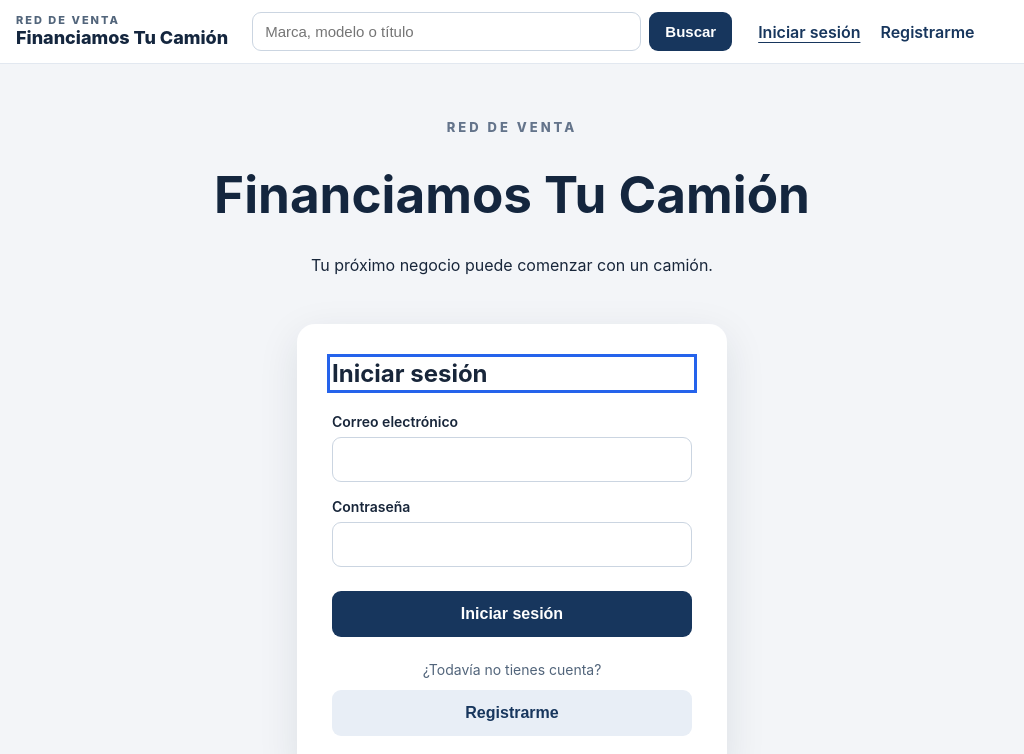
it: Login › CA-059-17 un 401 muestra "Correo o contraseña incorrectos.", conserva el correo y vacía la contraseña
This screenshot has width=1024, height=754.
Step 1. Type "comprador.ficticio@ejemplo.test" into the field labelled "Correo electrónico" → (512, 460), box [332,437,692,482]
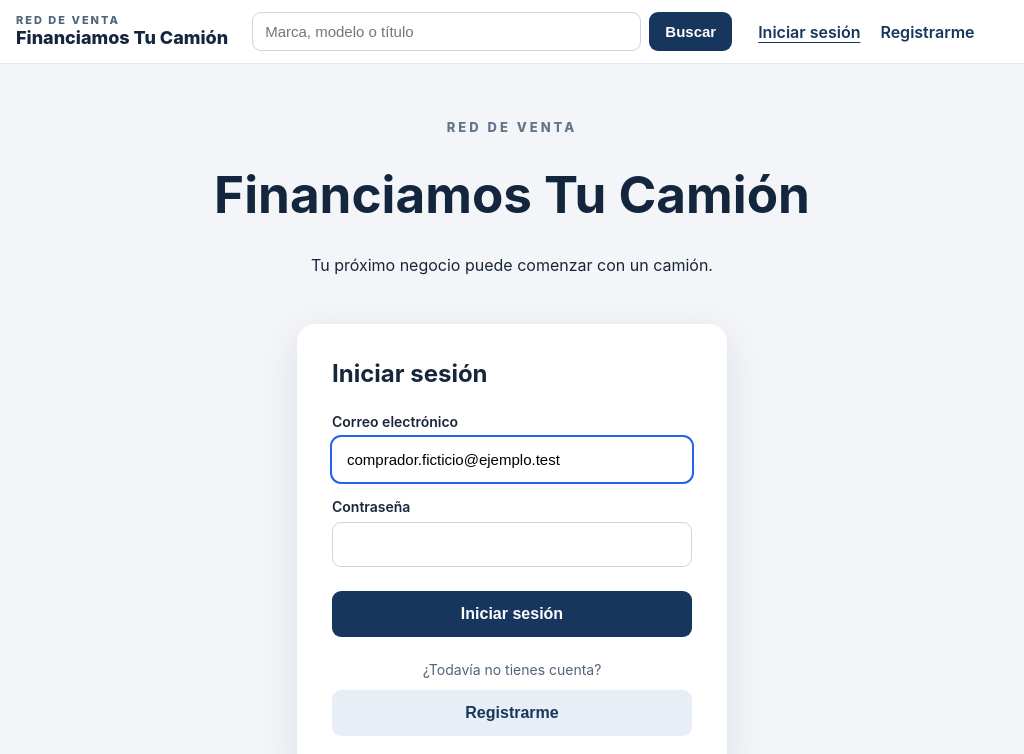
Step 2. Type "Camion2026" into the password field labelled "Contraseña" → (512, 545), box [332,522,692,567]
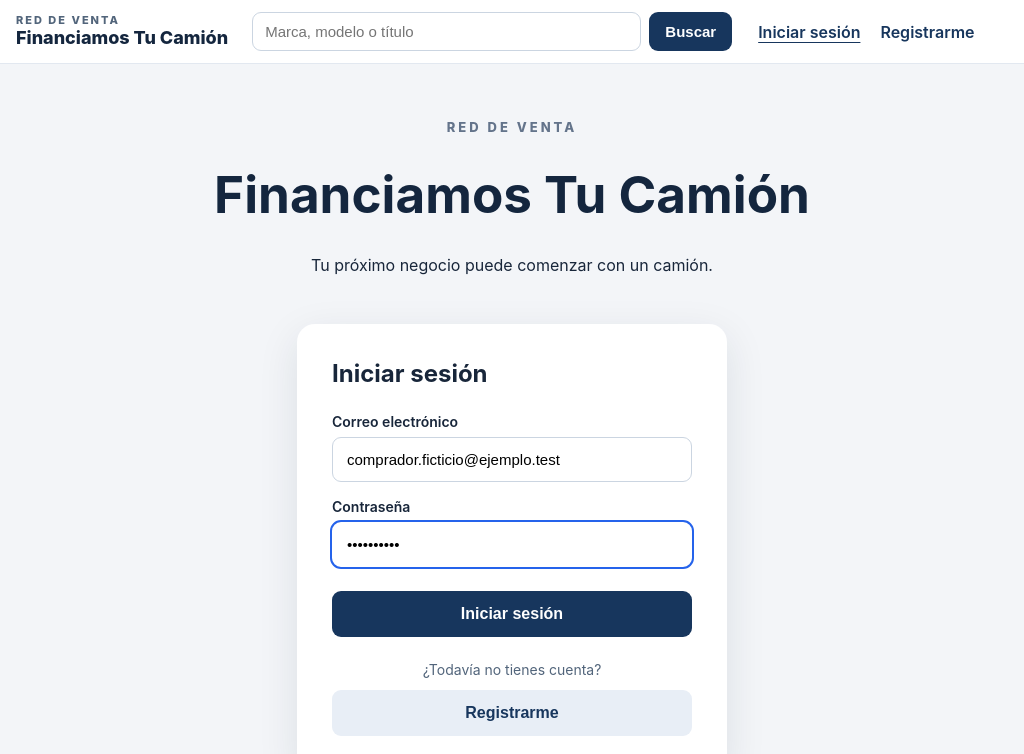
Step 3. Click the button "Iniciar sesión" → (512, 614), box [332,591,692,637]
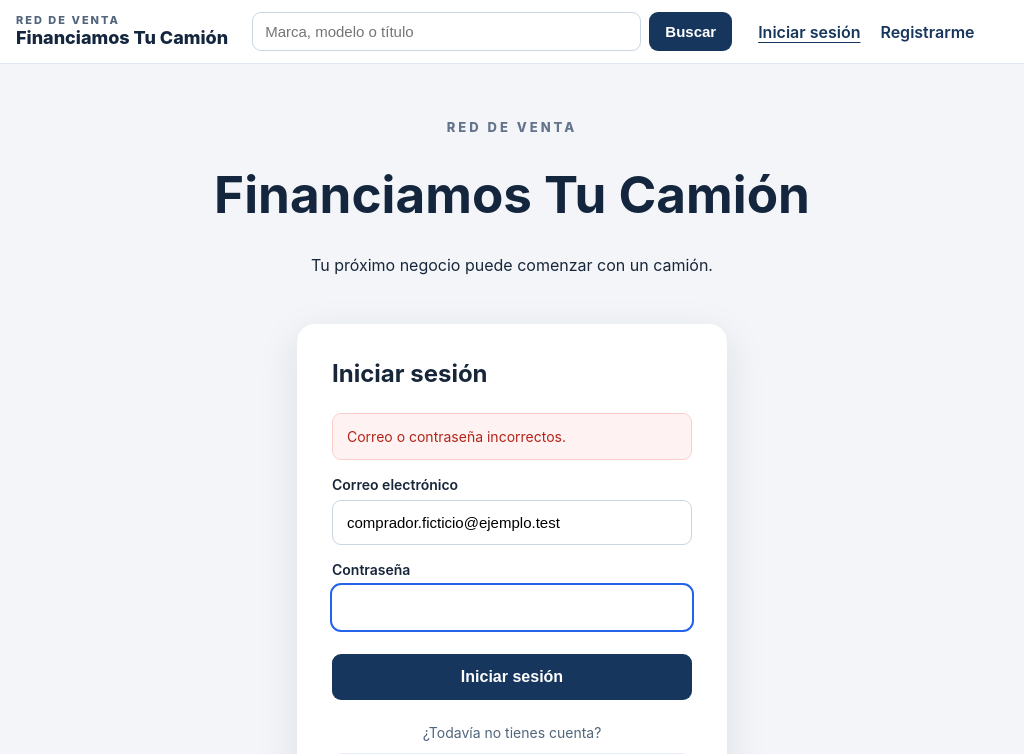
expect the message reads "Correo o contraseña incorrectos.": met, box [347,428,566,445]
expect the password field labelled "Contraseña" is empty: met, box [332,585,692,630]
